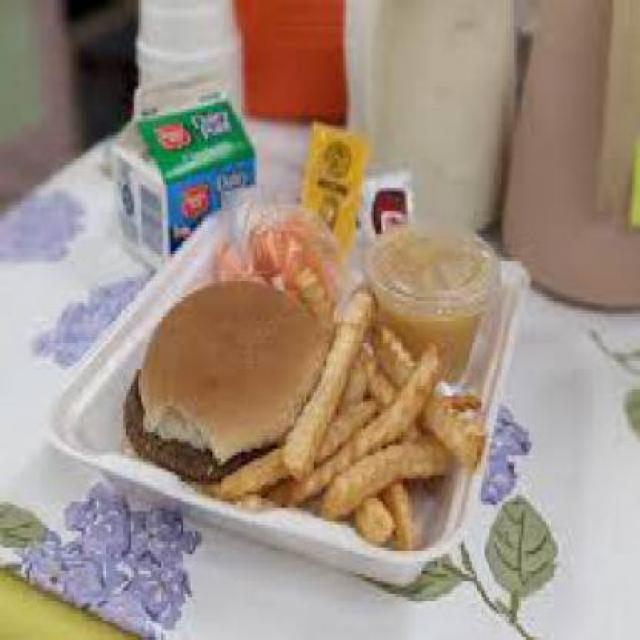french fries: (306, 280, 489, 538)
hamburger: (121, 274, 327, 478)
